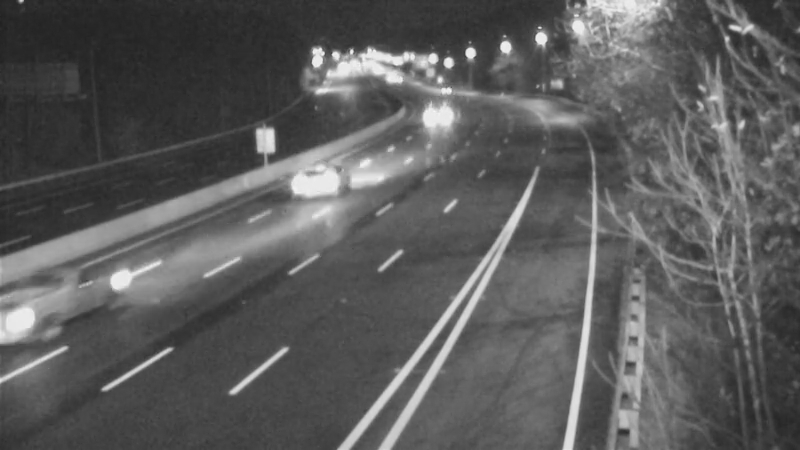vehicle: (286, 138, 366, 218), (27, 255, 107, 335), (411, 61, 461, 111), (410, 90, 460, 140)
